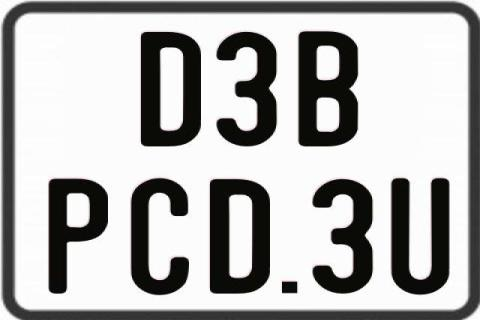0: (216, 30, 278, 148), (313, 178, 374, 296)
B: (296, 29, 360, 147)
C: (129, 177, 187, 295)
D: (209, 177, 274, 295), (138, 32, 200, 148)
P: (47, 177, 112, 297)
U: (392, 178, 452, 298)
